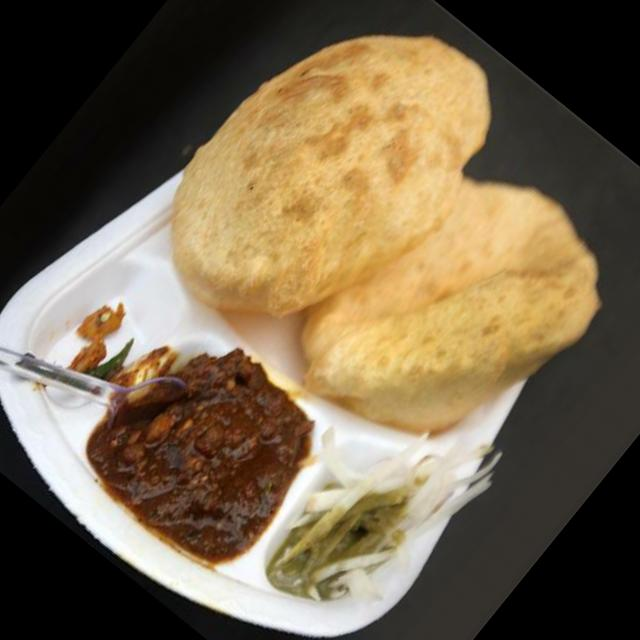Bhatura: (128, 0, 534, 387), (266, 120, 638, 502)
Chole: (82, 320, 332, 570)
